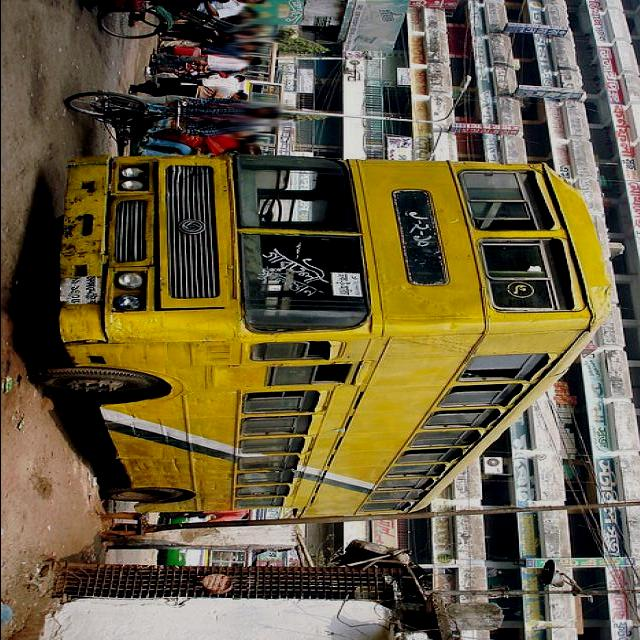bus: (26, 153, 614, 520)
